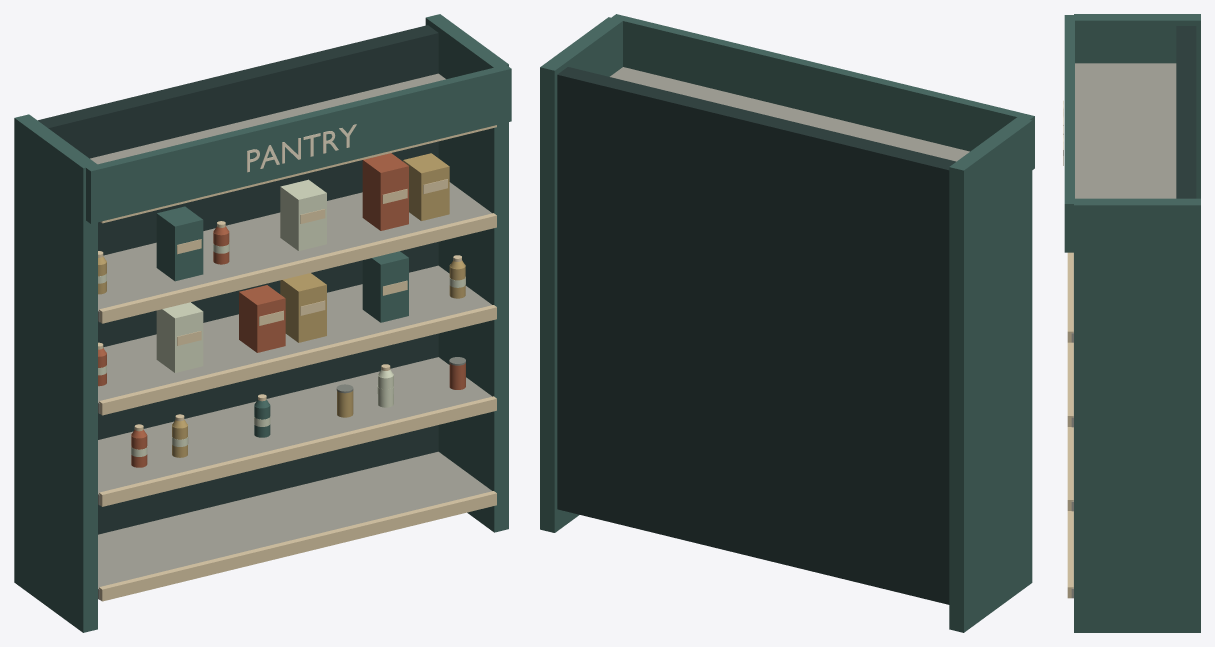
The model's file is station_aisle_shelf.glb.
3 renders of one model, left to right at view 1: azimuth 30°, elevation 25°; view 2: azimuth 150°, elevation 25°; view 3: azimuth 270°, elevation 25°, orthographic. The views are drawn at different scales.
Parts seen in each view (by area): view 1: Steel shelving back, Steel corner upright, Shelf category header, Steel corner upright.001, Powder coated shelf, Powder coated shelf.001, Powder coated shelf.002, Powder coated shelf.003, Ticket strip.001, Ticket strip.003, Ticket strip.002, Ticket strip (+11 smaller); view 2: Steel shelving back, Steel corner upright, Shelf category header, Steel corner upright.001, Powder coated shelf.004; view 3: Steel corner upright.001, Powder coated shelf.004, Steel corner upright, Steel shelving back, Shelf category header, Ticket strip.003, Ticket strip, Ticket strip.002, Ticket strip.001.
Part boxes in pixels (bbox=[...]): Steel shelving back: bbox=[38, 25, 438, 534]; Steel corner upright: bbox=[14, 114, 97, 632]; Shelf category header: bbox=[86, 65, 511, 223]; Steel corner upright.001: bbox=[425, 14, 508, 532]; Powder coated shelf: bbox=[98, 451, 492, 599]; Powder coated shelf.001: bbox=[98, 357, 491, 505]; Powder coated shelf.002: bbox=[98, 265, 491, 413]; Powder coated shelf.003: bbox=[98, 182, 491, 322]; Ticket strip.001: bbox=[99, 396, 496, 506]; Ticket strip.003: bbox=[99, 213, 496, 323]; Ticket strip.002: bbox=[99, 305, 496, 415]; Ticket strip: bbox=[99, 491, 496, 601]; Steel shelving back: bbox=[557, 67, 955, 604]; Steel corner upright: bbox=[949, 117, 1032, 632]; Shelf category header: bbox=[611, 14, 1034, 169]; Steel corner upright.001: bbox=[540, 17, 622, 532]; Powder coated shelf.004: bbox=[610, 67, 969, 161]; Steel corner upright.001: bbox=[1074, 198, 1200, 632]; Powder coated shelf.004: bbox=[1075, 63, 1176, 198]; Steel corner upright: bbox=[1074, 14, 1200, 198]; Steel shelving back: bbox=[1176, 26, 1196, 198]; Shelf category header: bbox=[1064, 15, 1074, 252]; Ticket strip.003: bbox=[1067, 252, 1073, 342]; Ticket strip: bbox=[1067, 511, 1073, 598]; Ticket strip.002: bbox=[1067, 342, 1073, 426]; Ticket strip.001: bbox=[1067, 427, 1073, 510].
Size of the model in its own units: 1.56 by 1.63 by 0.476.
